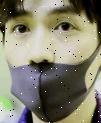mask_weared_incorrect: (2, 2, 101, 123)
